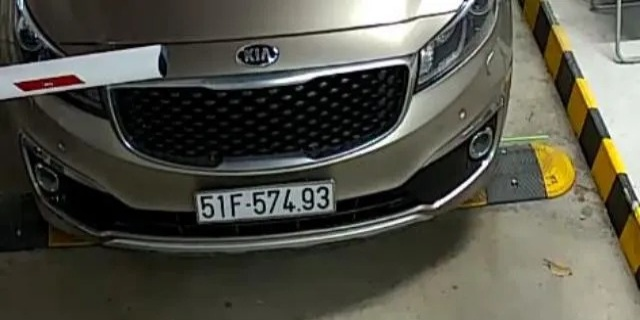bien_so: (198, 188, 335, 218)
